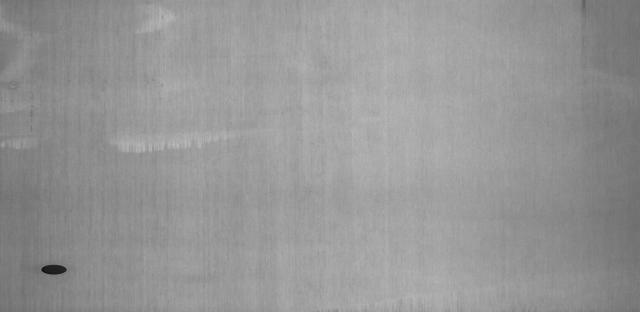punching_hole: (36, 261, 71, 278)
